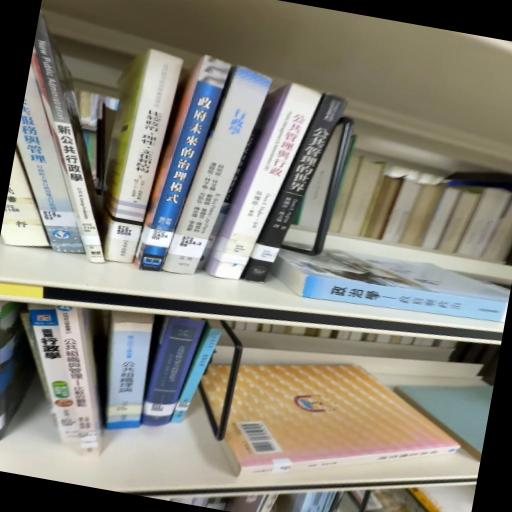flat: (200, 363, 459, 475), (271, 248, 509, 320)
